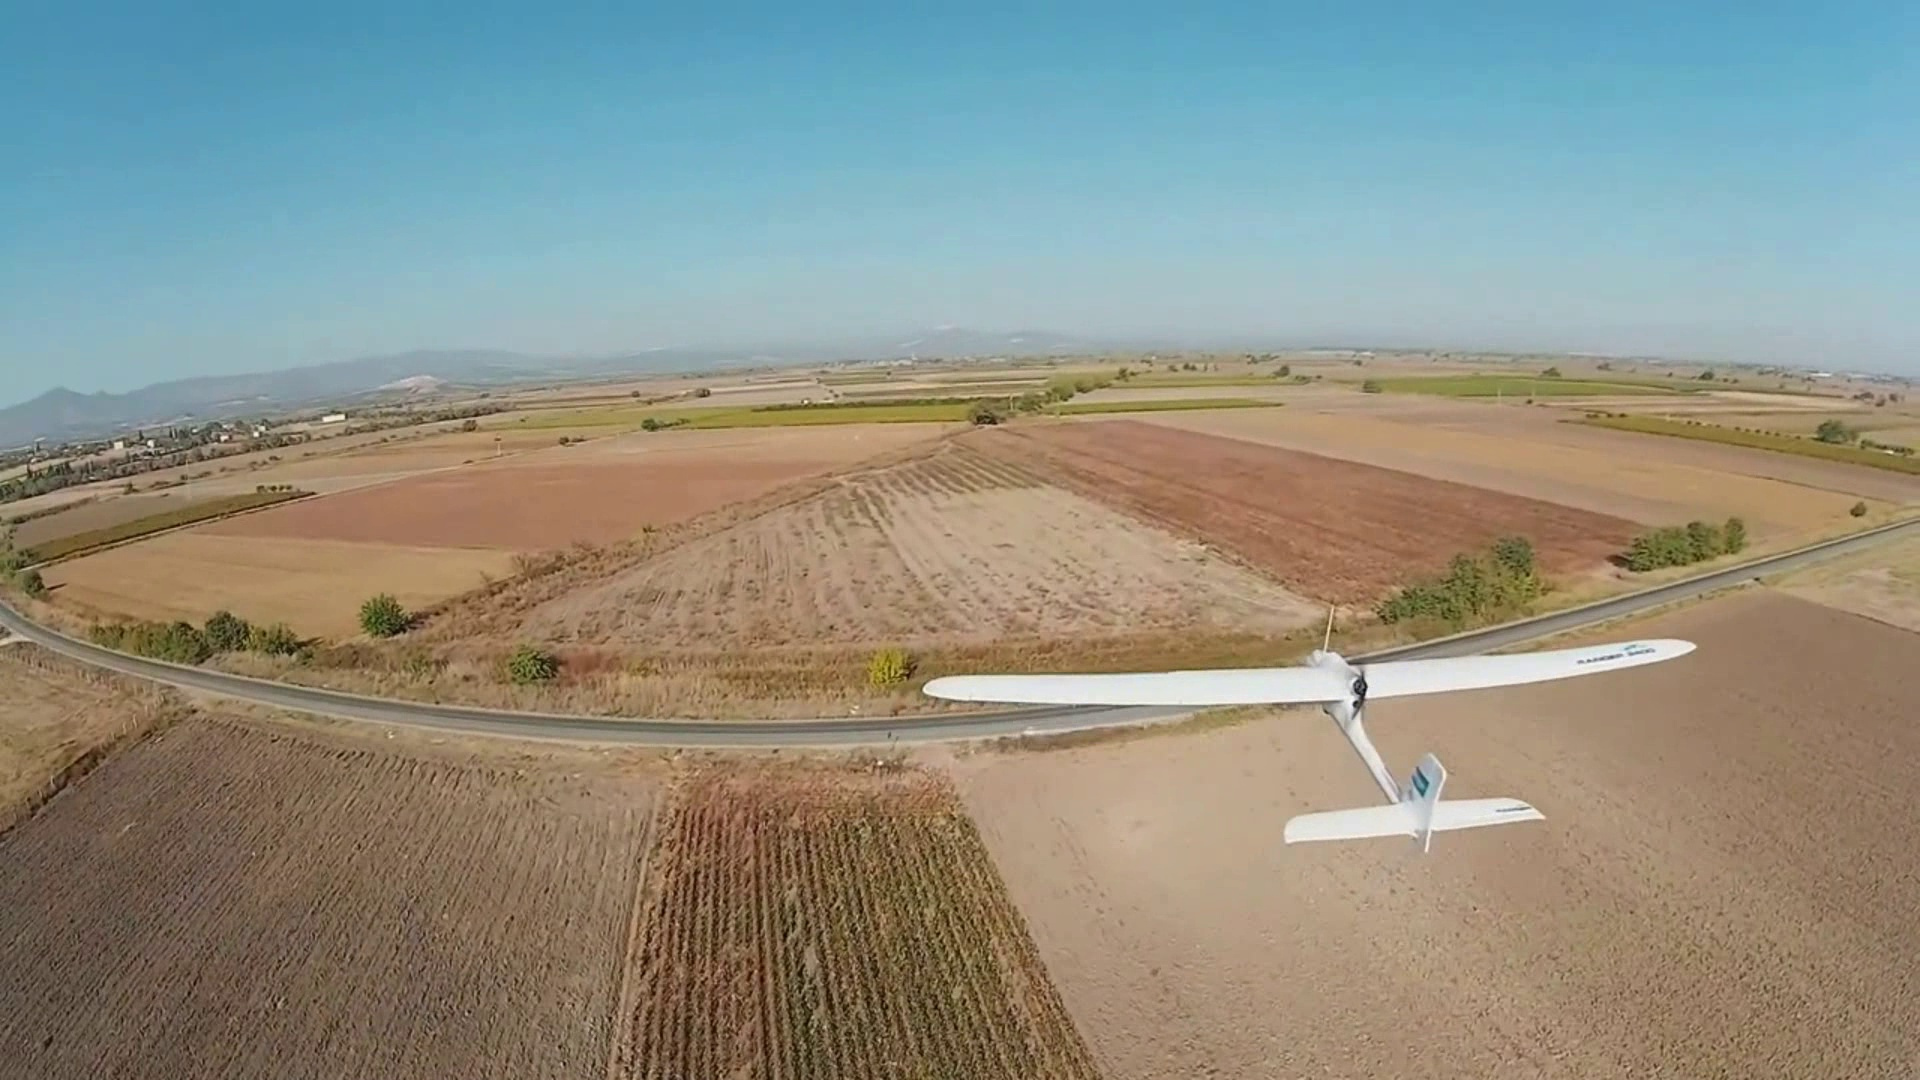airplane: (919, 631, 1699, 850)
